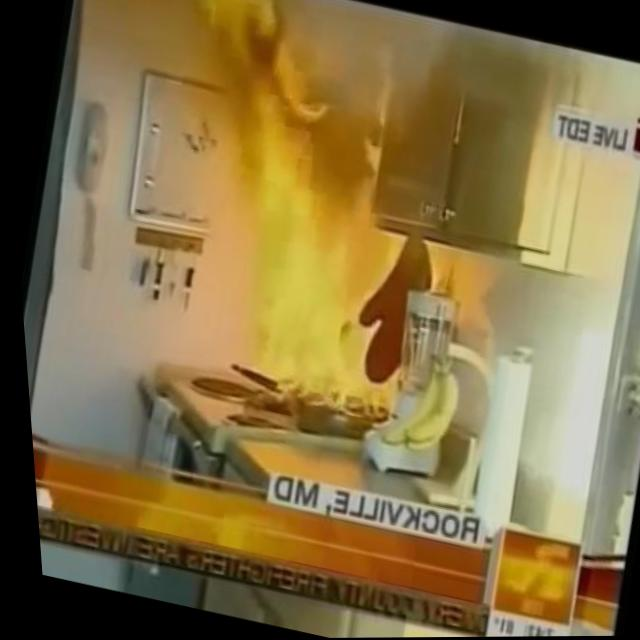fire: (185, 89, 444, 427)
